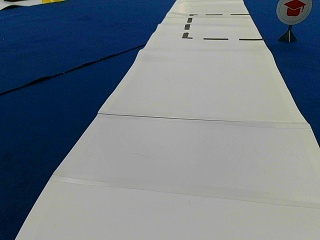school: (275, 1, 311, 24)
